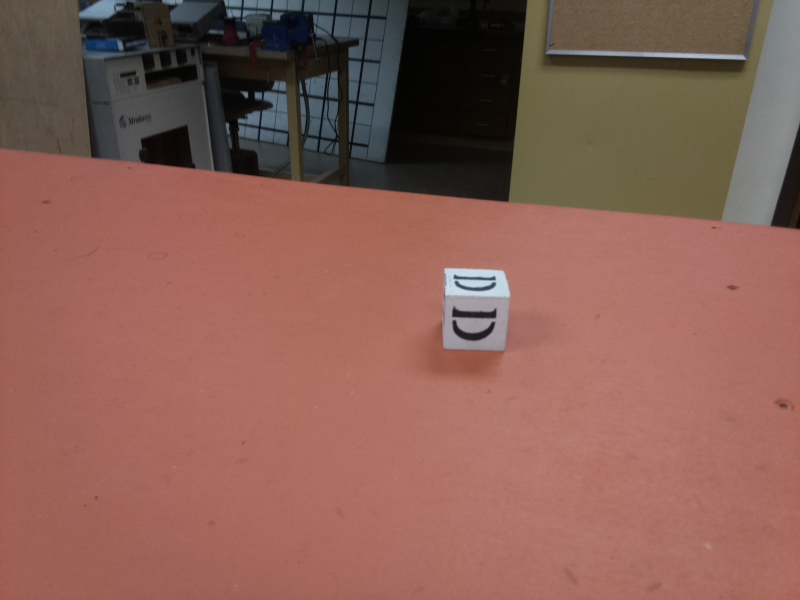blockD: (442, 264, 510, 358)
